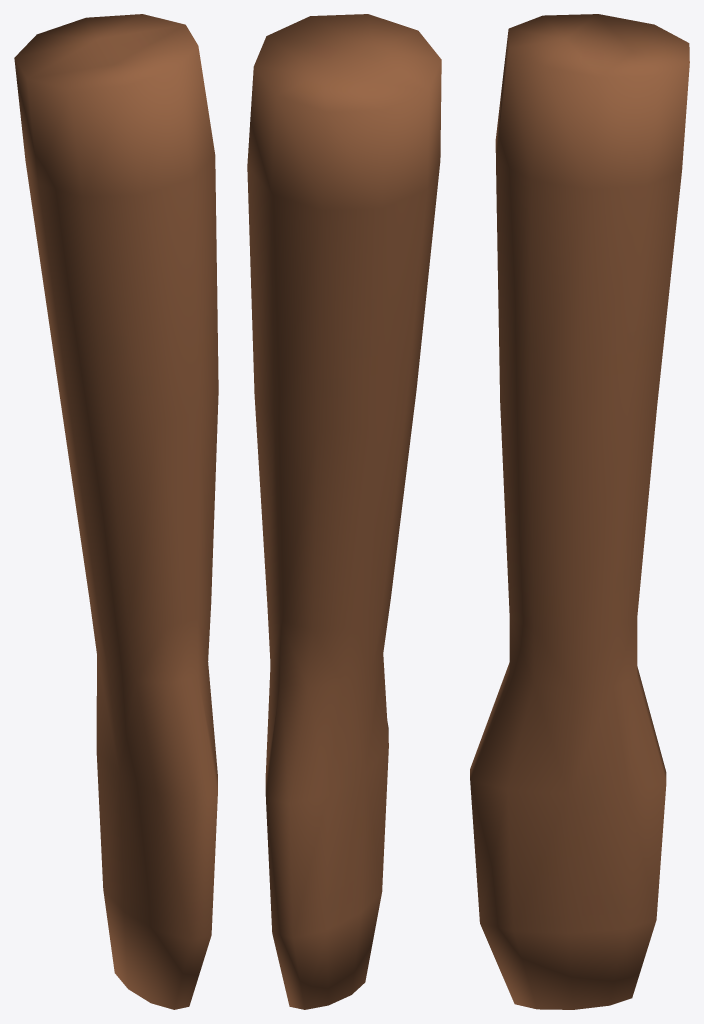
Rendered from antebrazoizq.obj.
3 views of the same model, side by side, from view 1: azimuth 30°, elevation 25°; view 2: azimuth 150°, elevation 25°; view 3: azimuth 270°, elevation 25° (orthographic).
Parts seen in each view (by area): view 1: AntebrazoIzq; view 2: AntebrazoIzq; view 3: AntebrazoIzq.
Boxes of the visible parts, left/top/right/bottom form: AntebrazoIzq: left=14, top=14, right=218, bottom=1009; AntebrazoIzq: left=247, top=14, right=441, bottom=1009; AntebrazoIzq: left=470, top=14, right=689, bottom=1009.
Bounding box in the file's own units: 0.0484 × 0.2557 × 0.0537.
Materials: 1 (1 with a texture image).
